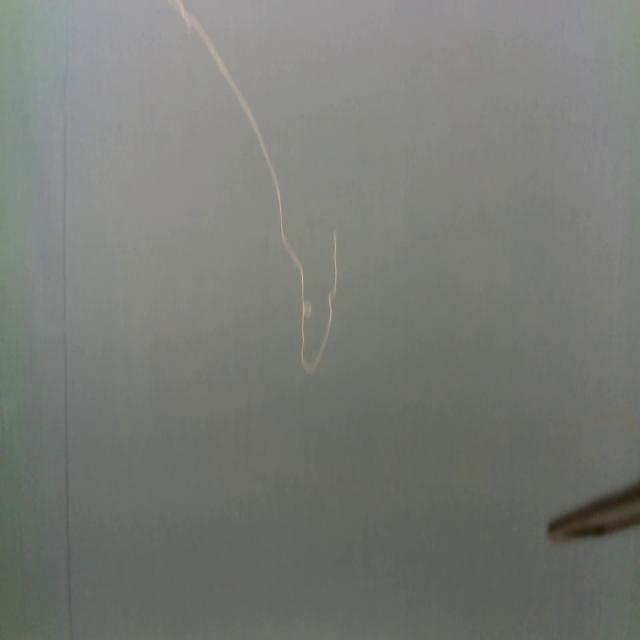crease: (62, 1, 75, 640)
